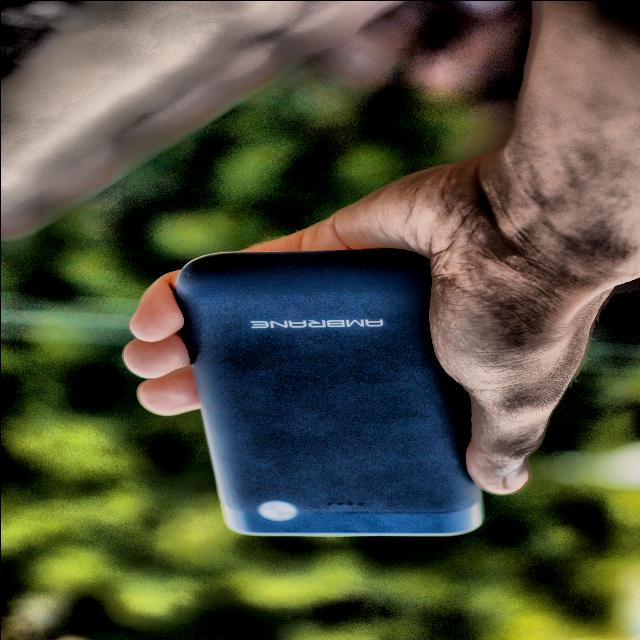Power bank: (175, 248, 480, 534)
